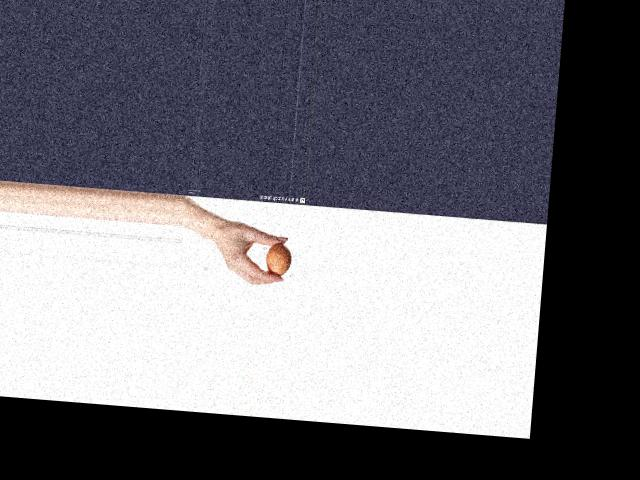egg: (264, 242, 291, 275)
